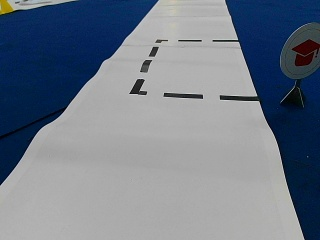school: (280, 23, 318, 79)
